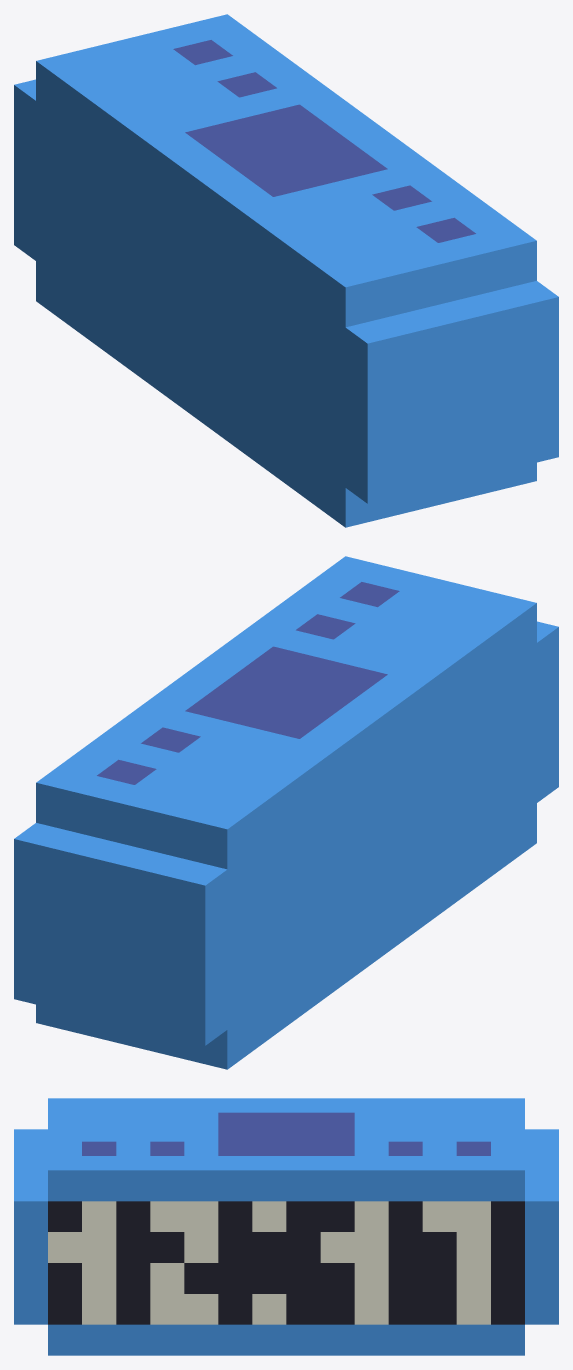
Rendered from Clock.obj.
The picture shows the model from 3 angles, top to bottom: view 1: azimuth 30°, elevation 25°; view 2: azimuth 150°, elevation 25°; view 3: azimuth 270°, elevation 25°; orthographic projection. The views are drawn at different scales.
Size of the model in its own units: 0.5 by 0.6 by 1.6.
Materials: 1 (1 with a texture image).
